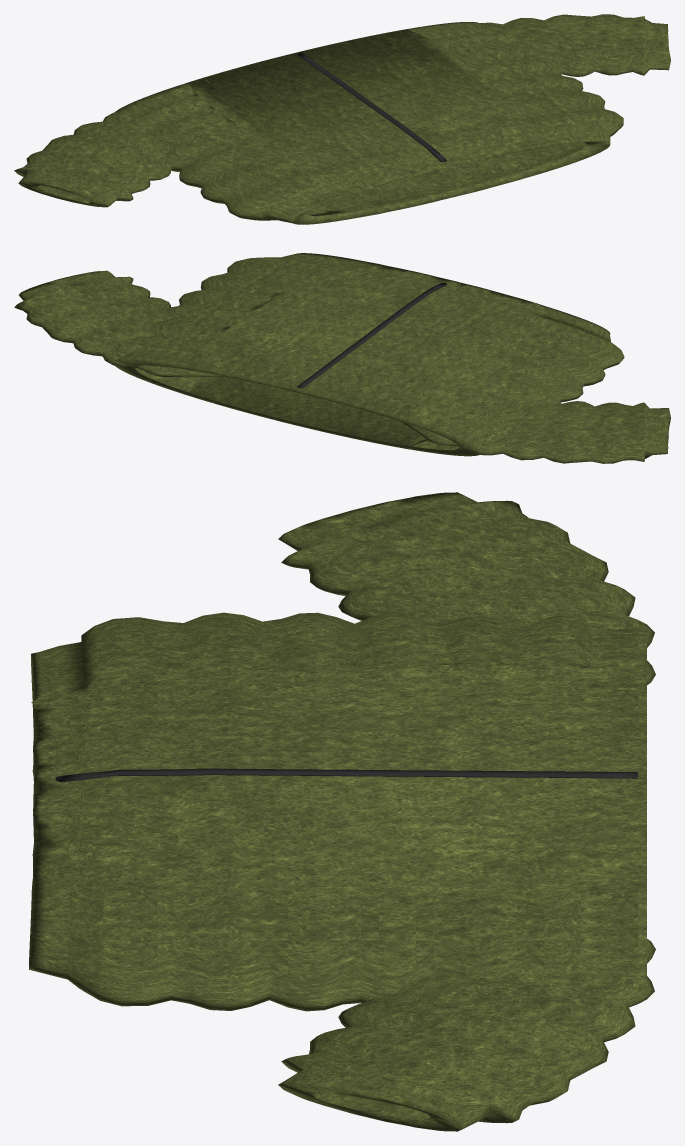
Rendered from puffer2.fbx.
3 views of the same model, one above another, from view 1: azimuth 30°, elevation 25°; view 2: azimuth 150°, elevation 25°; view 3: azimuth 270°, elevation 25° (orthographic). The views are drawn at different scales.
Visible parts, largest first — view 1: puffer2; view 2: puffer2; view 3: puffer2.
Part boxes in pixels (box(x1,y1,x2,y2)): puffer2: box(14, 14, 670, 224); puffer2: box(14, 253, 670, 463); puffer2: box(29, 492, 655, 1131).
Size of the model in its own units: 1.56 by 0.0929 by 0.6522.
2 materials, 1 textured.
